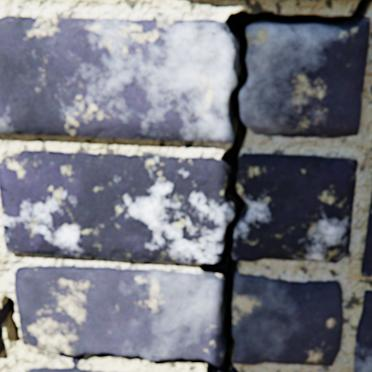brick: (353, 290, 371, 371), (360, 188, 371, 276), (0, 308, 3, 354)
broken_brick: (0, 17, 235, 143), (0, 151, 233, 263), (15, 266, 223, 365), (239, 18, 369, 138), (232, 154, 356, 263), (232, 272, 342, 365), (26, 367, 117, 371)
crack: (2, 0, 371, 371)
